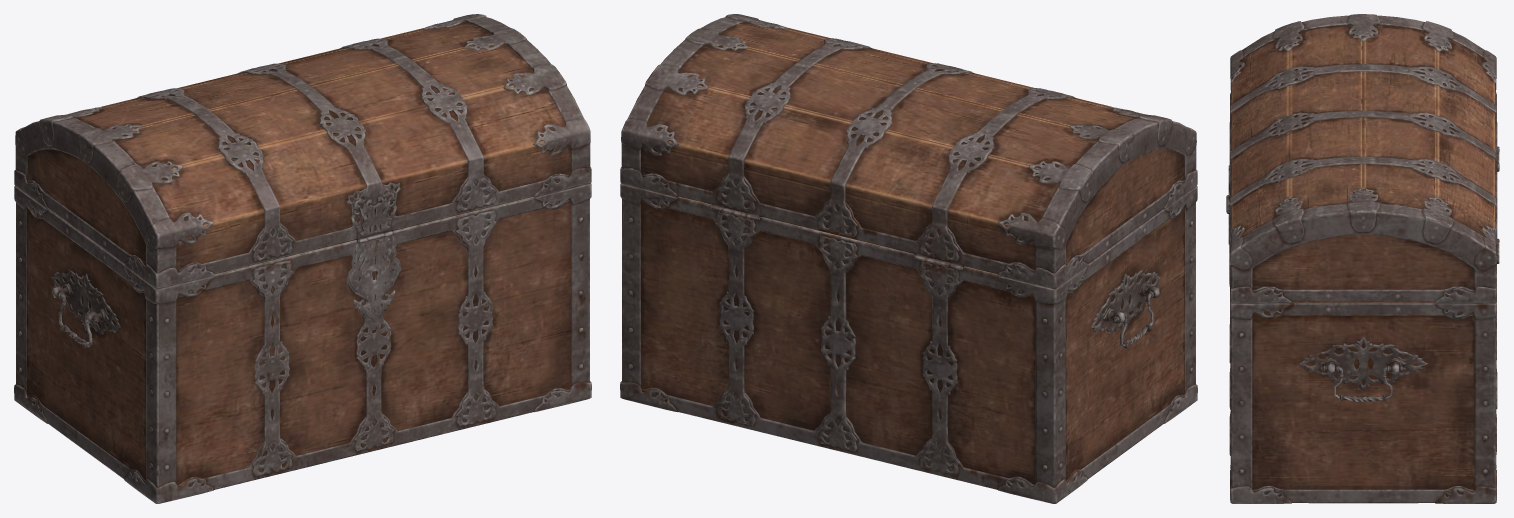
The model's file is treasure_chest.glb.
3 renders of one model, left to right at view 1: azimuth 30°, elevation 25°; view 2: azimuth 150°, elevation 25°; view 3: azimuth 270°, elevation 25°, orthographic. The views are drawn at different scales.
Visible parts, largest first — view 1: treasure_chest_bottom_mesh, treasure_chest_lid_mesh, treasure_chest_lock_mesh; view 2: treasure_chest_bottom_mesh, treasure_chest_lid_mesh; view 3: treasure_chest_lid_mesh, treasure_chest_bottom_mesh, treasure_chest_handle_right_mesh.
Boxes of the visible parts, x1,y1,x2,y2 form: treasure_chest_bottom_mesh: (14,183,591,503); treasure_chest_lid_mesh: (14,14,591,288); treasure_chest_lock_mesh: (349,233,399,322); treasure_chest_bottom_mesh: (620,183,1197,503); treasure_chest_lid_mesh: (620,14,1197,288); treasure_chest_lid_mesh: (1226,14,1499,303); treasure_chest_bottom_mesh: (1229,152,1499,503); treasure_chest_handle_right_mesh: (1320,365,1405,401).
Bounding box in the file's own units: 0.959 × 0.619 × 0.5226.
1 material, 1 textured.
